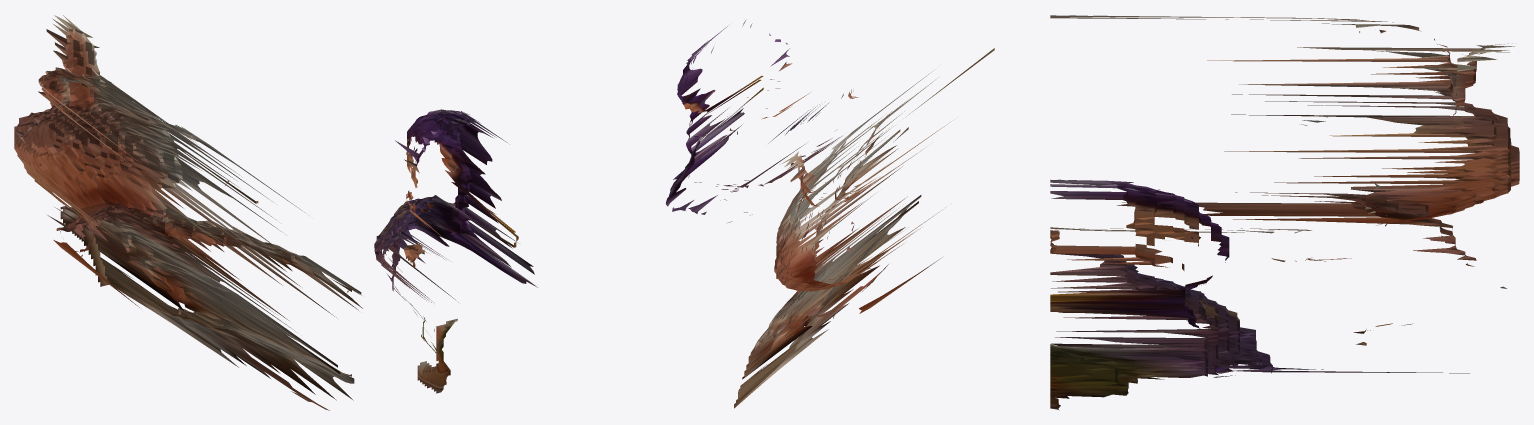
Rendered from frame_00343.glb.
The picture shows the model from 3 angles, left to right: view 1: azimuth 30°, elevation 25°; view 2: azimuth 150°, elevation 25°; view 3: azimuth 270°, elevation 25°; orthographic projection. The views are drawn at different scales.
Visible parts, largest first — view 1: geometry_0; view 2: geometry_0; view 3: geometry_0.
Boxes of the visible parts, x1,y1,x2,y2 form: geometry_0: (14, 15, 537, 410); geometry_0: (666, 19, 994, 408); geometry_0: (1050, 15, 1519, 410).
Bounding box in the file's own units: 0.1367 × 0.1184 × 0.16.
1 material, 1 textured.
